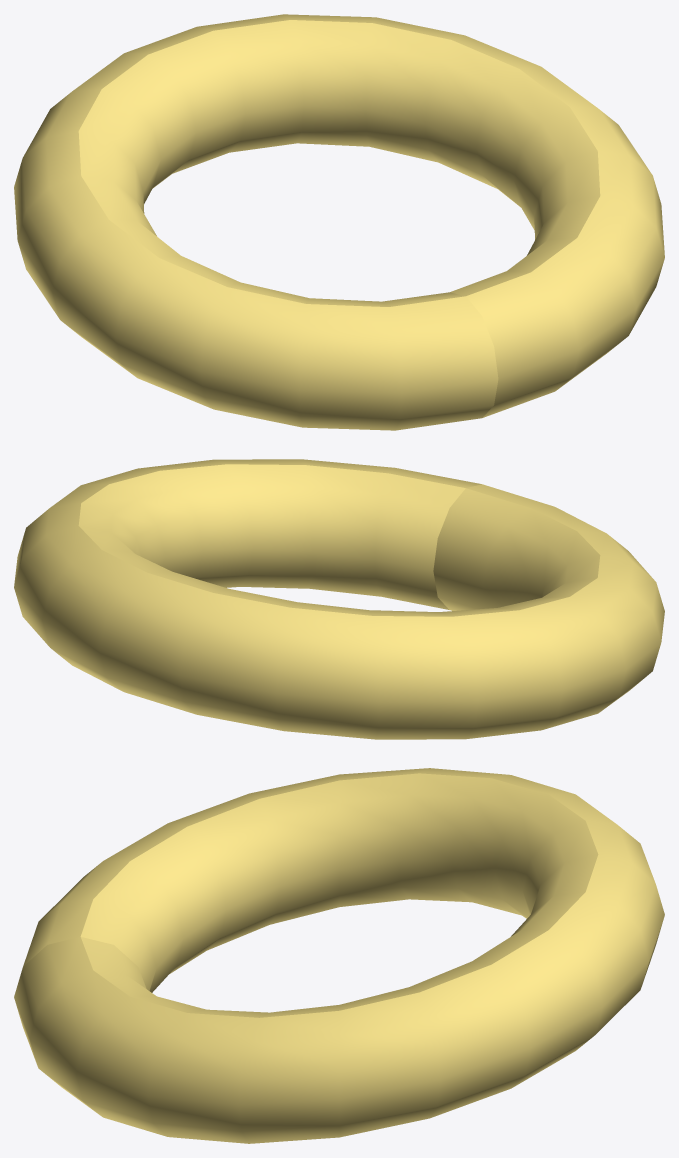
The model's file is man_truyen_thong.glb.
The picture shows the model from 3 angles, top to bottom: view 1: azimuth 30°, elevation 25°; view 2: azimuth 150°, elevation 25°; view 3: azimuth 270°, elevation 25°; orthographic projection. The views are drawn at different scales.
Parts seen in each view (by area): view 1: Accessory_Man_Node; view 2: Accessory_Man_Node; view 3: Accessory_Man_Node.
Part boxes in pixels (x1,y1,x2,y2): Accessory_Man_Node: (14, 14, 664, 430); Accessory_Man_Node: (14, 459, 664, 739); Accessory_Man_Node: (14, 768, 664, 1143).
Size of the model in its own units: 0.224 by 0.074 by 0.215.
